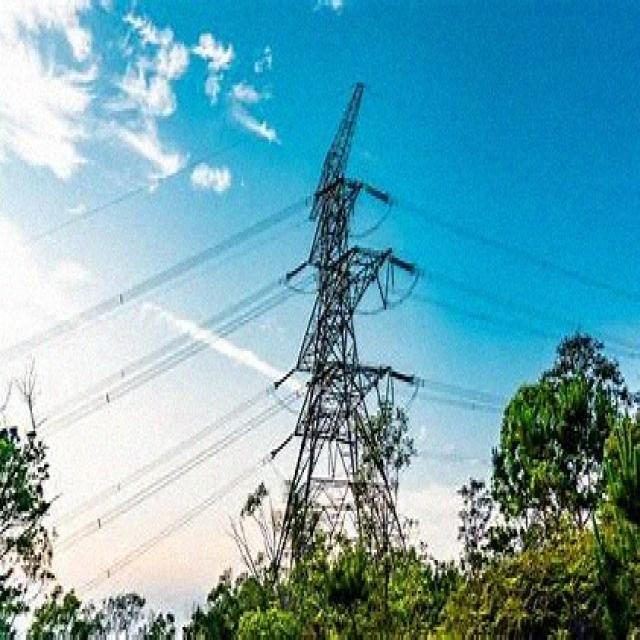utility poles: (474, 283, 615, 480), (307, 361, 431, 558)
